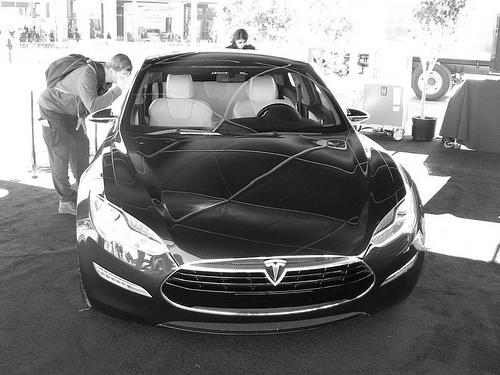car: (76, 50, 431, 340)
